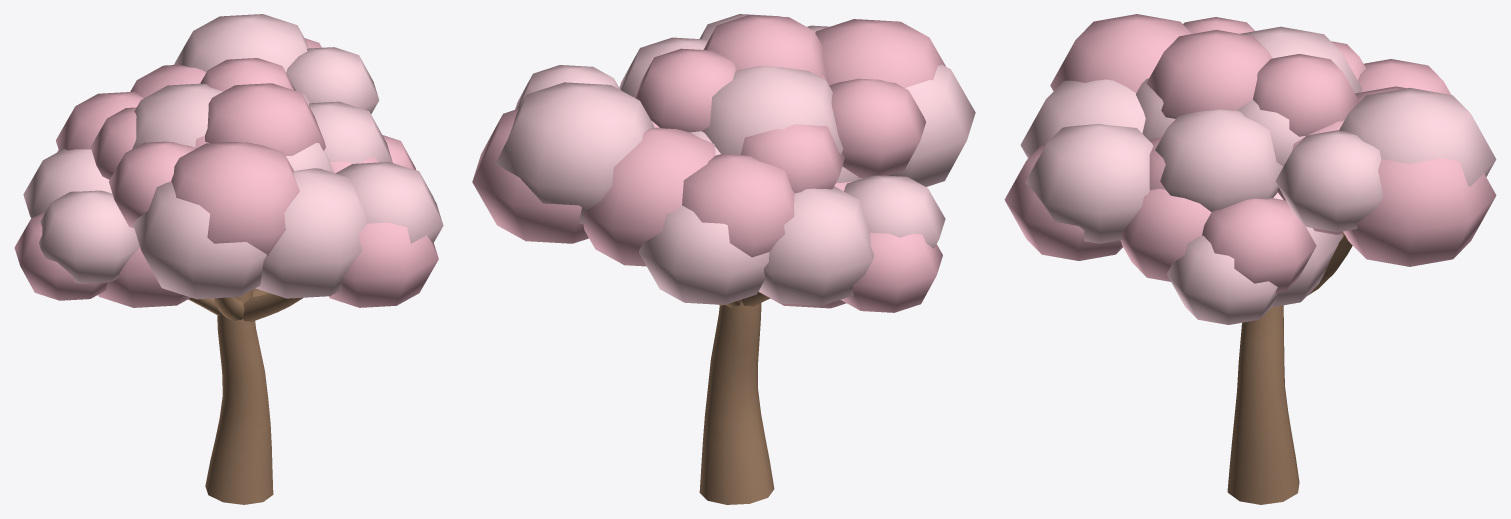
File: plaza_tree.glb
3 views of the same model, side by side, from view 1: azimuth 30°, elevation 25°; view 2: azimuth 150°, elevation 25°; view 3: azimuth 270°, elevation 25° (orthographic). The views are drawn at different scales.
Visible parts, largest first — view 1: lock; view 2: lock; view 3: lock.
Boxes of the visible parts, <box> form: lock: <box>14,14,443,504</box>; lock: <box>472,14,975,504</box>; lock: <box>1004,14,1496,504</box>.
Size of the model in its own units: 3.81 by 4.03 by 3.97.
